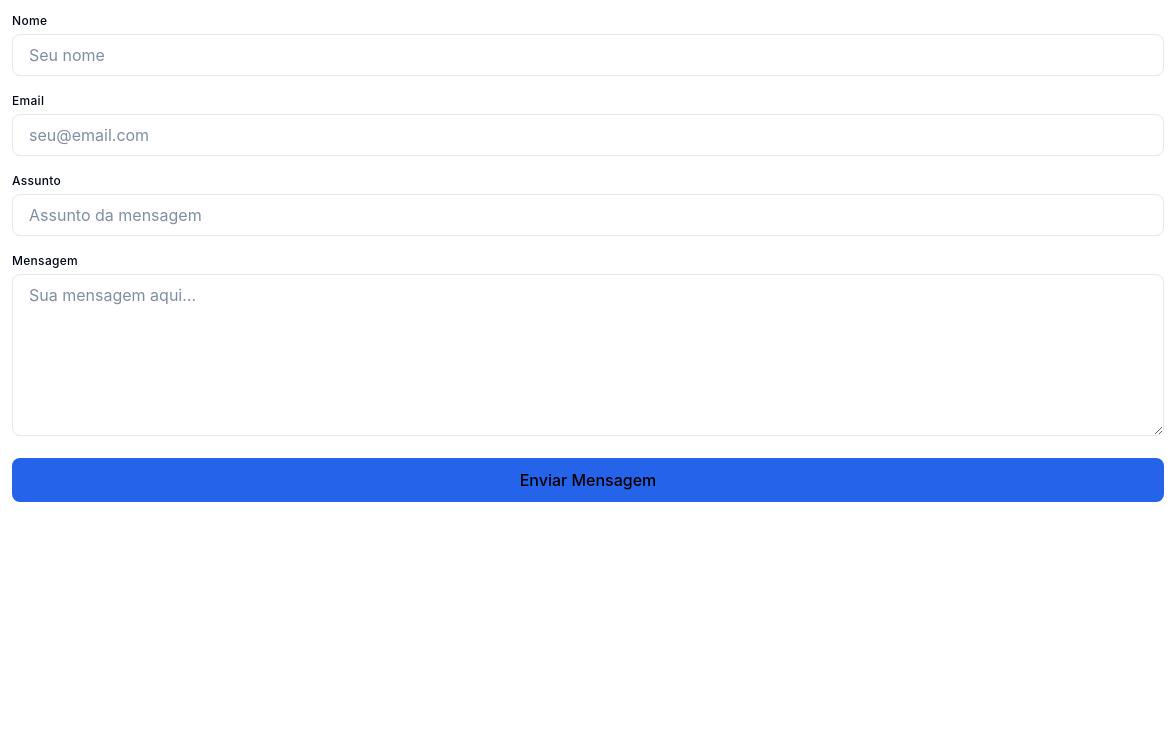
Test case: ContactForm › displays error message on failed submission
Step 1. Click the button "Enviar Mensagem" → coordinates (588, 480), box [12,458,1164,502]
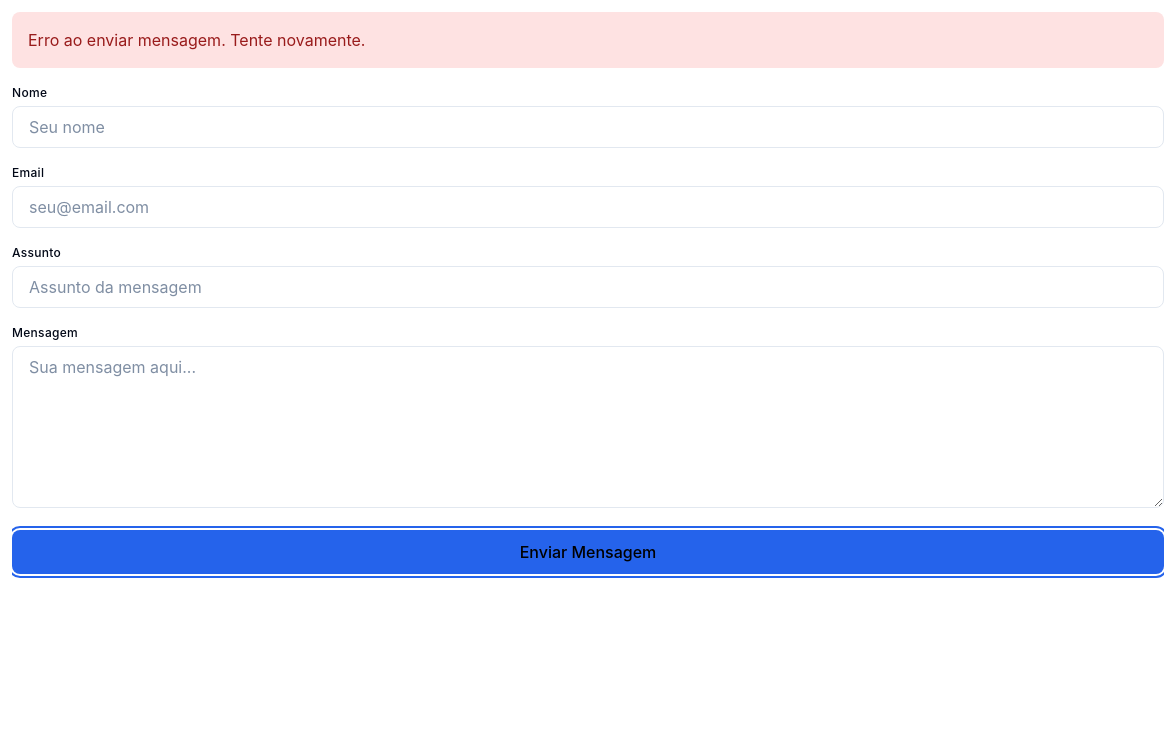
Result: the text "Erro ao enviar mensagem. Tente novamente." is shown at [12,12,1164,68]
